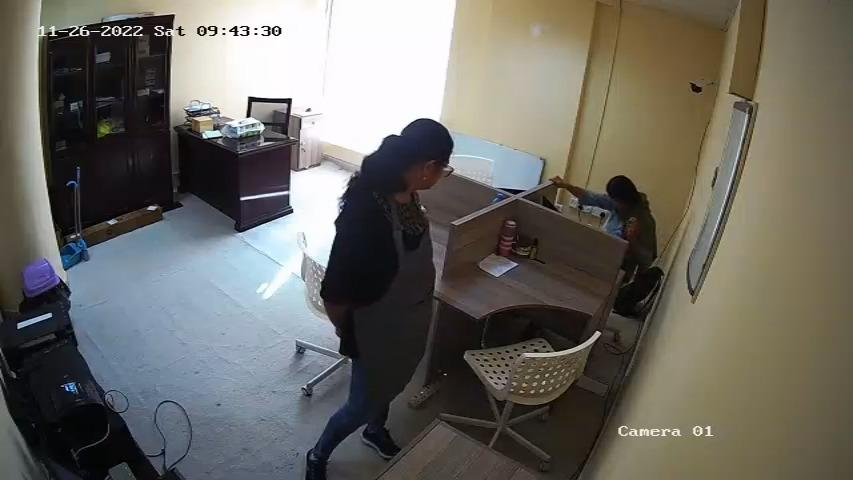apron: (371, 188, 435, 364)
